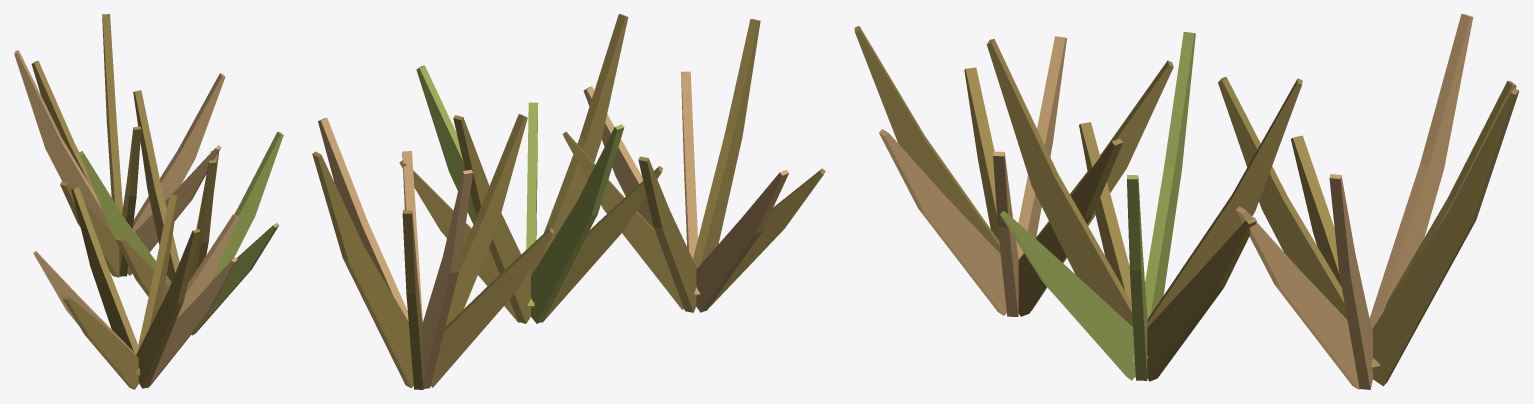
Rendered from desert_grass.glb.
3 views of the same model, side by side, from view 1: azimuth 30°, elevation 25°; view 2: azimuth 150°, elevation 25°; view 3: azimuth 270°, elevation 25° (orthographic). The views are drawn at different scales.
Visible parts, largest first — view 1: desert_grass; view 2: desert_grass; view 3: desert_grass.
Part boxes in pixels (x1,y1,x2,y2): desert_grass: [14, 14, 283, 389]; desert_grass: [312, 14, 825, 389]; desert_grass: [854, 14, 1519, 389].
Bounding box in the file's own units: 1.08 × 0.7819 × 1.48.
